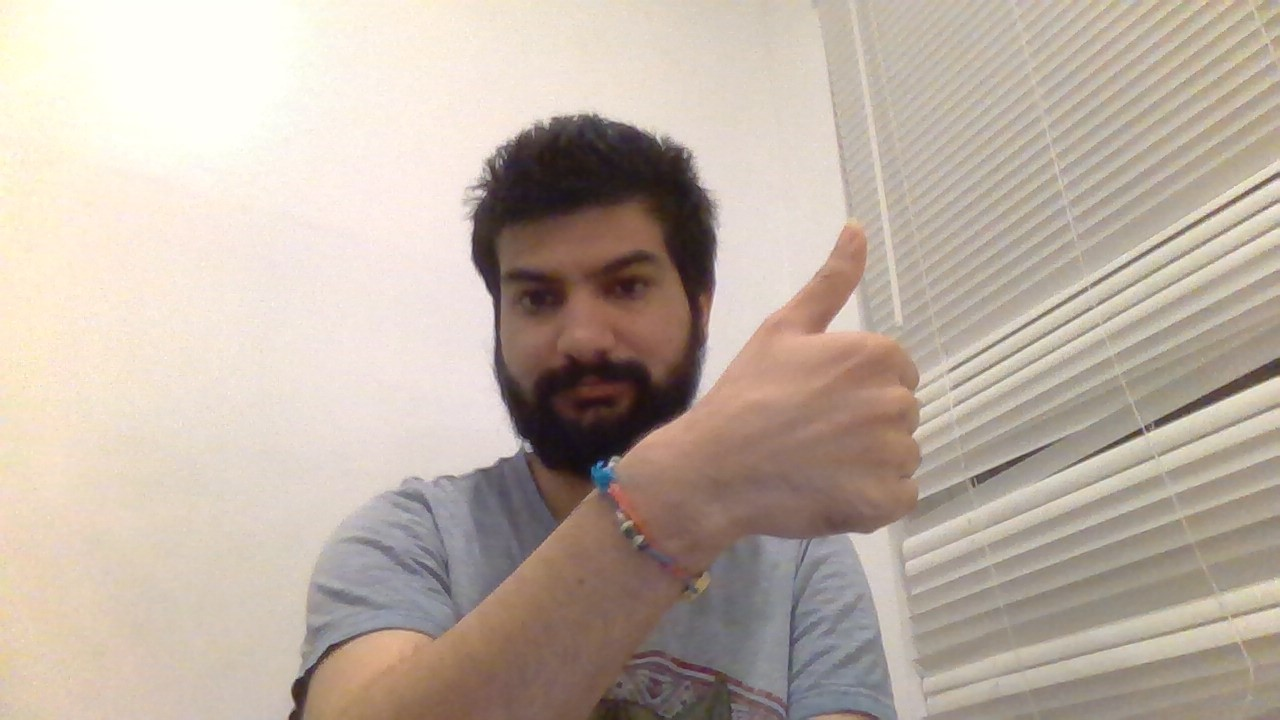up: (759, 209, 930, 550)
